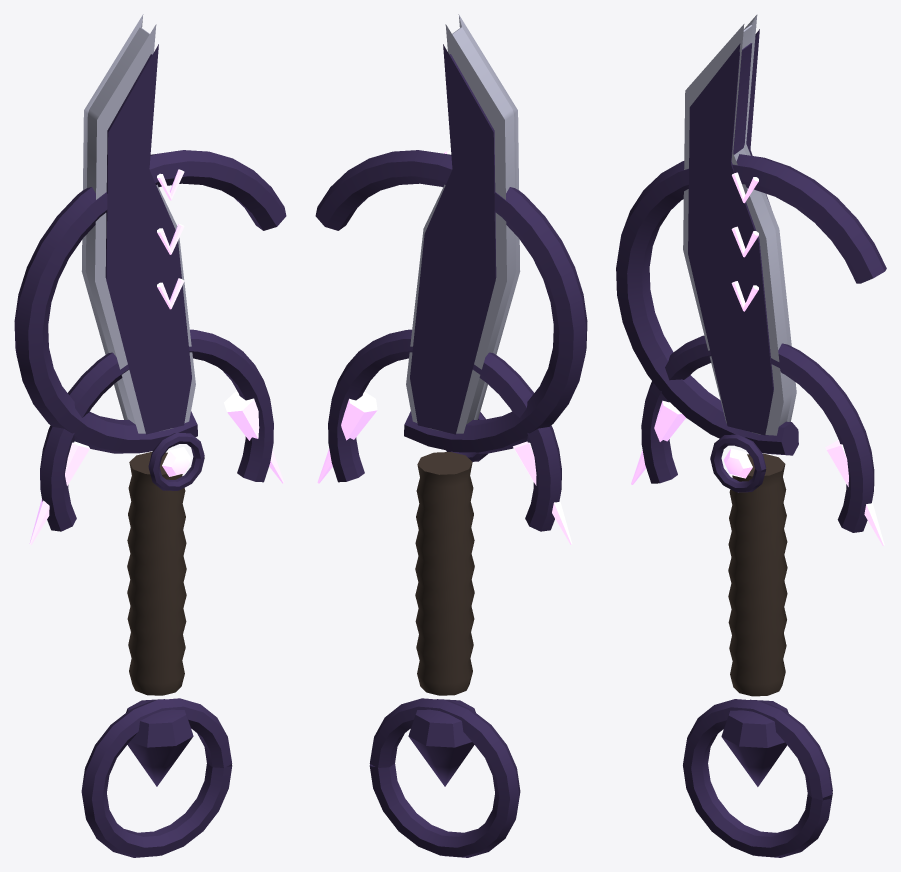
Rendered from boss_eclipse_dancer_main_weapon.glb.
3 views of the same model, side by side, from view 1: azimuth 30°, elevation 25°; view 2: azimuth 150°, elevation 25°; view 3: azimuth 330°, elevation 25° (orthographic).
Parts seen in each view (by area): view 1: boss_eclipse_dancer_main_weapon; view 2: boss_eclipse_dancer_main_weapon; view 3: boss_eclipse_dancer_main_weapon.
Part boxes in pixels (bbox=[...]): boss_eclipse_dancer_main_weapon: bbox=[14, 14, 286, 857]; boss_eclipse_dancer_main_weapon: bbox=[315, 14, 587, 857]; boss_eclipse_dancer_main_weapon: bbox=[616, 14, 886, 857].
Size of the model in its own units: 0.2128 by 0.6344 by 0.0604.
